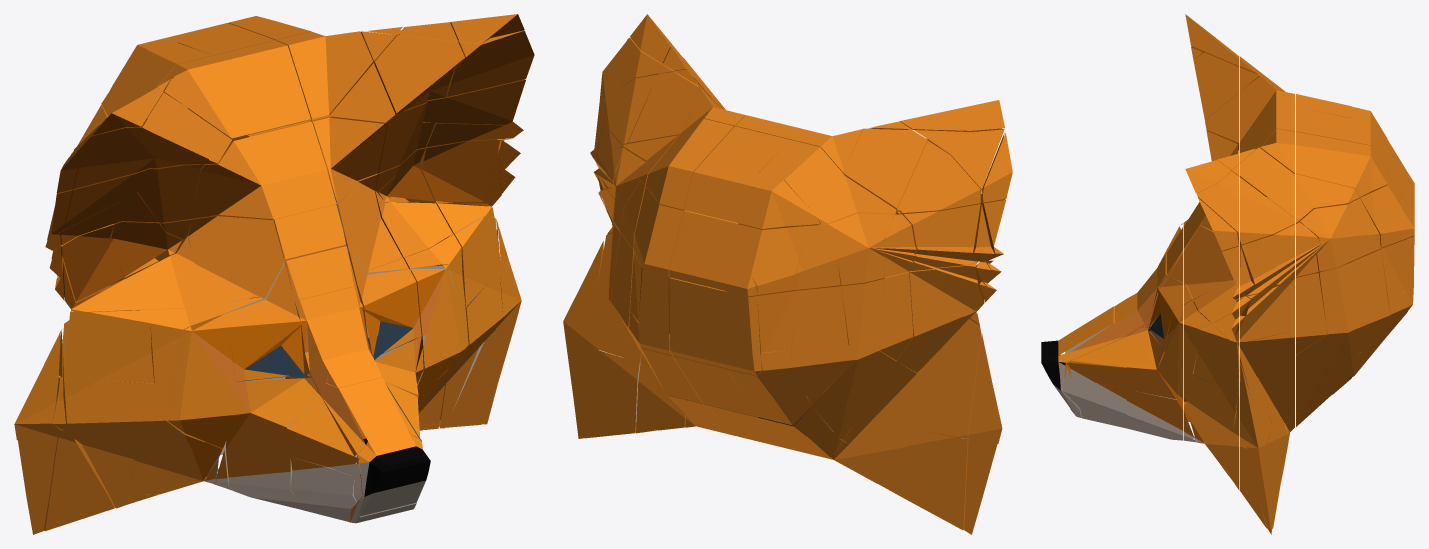
File: fox_compressed.glb
The picture shows the model from 3 angles, left to right: view 1: azimuth 30°, elevation 25°; view 2: azimuth 150°, elevation 25°; view 3: azimuth 270°, elevation 25°; orthographic projection. The views are drawn at different scales.
Parts seen in each view (by area): view 1: fox_001; view 2: fox_001; view 3: fox_001.
Part boxes in pixels (left/top/right/bottom): fox_001: left=14, top=14, right=534, bottom=534; fox_001: left=563, top=14, right=1012, bottom=534; fox_001: left=1041, top=14, right=1414, bottom=534.
Bounding box in the file's own units: 2.44 × 2.1 × 1.99.
